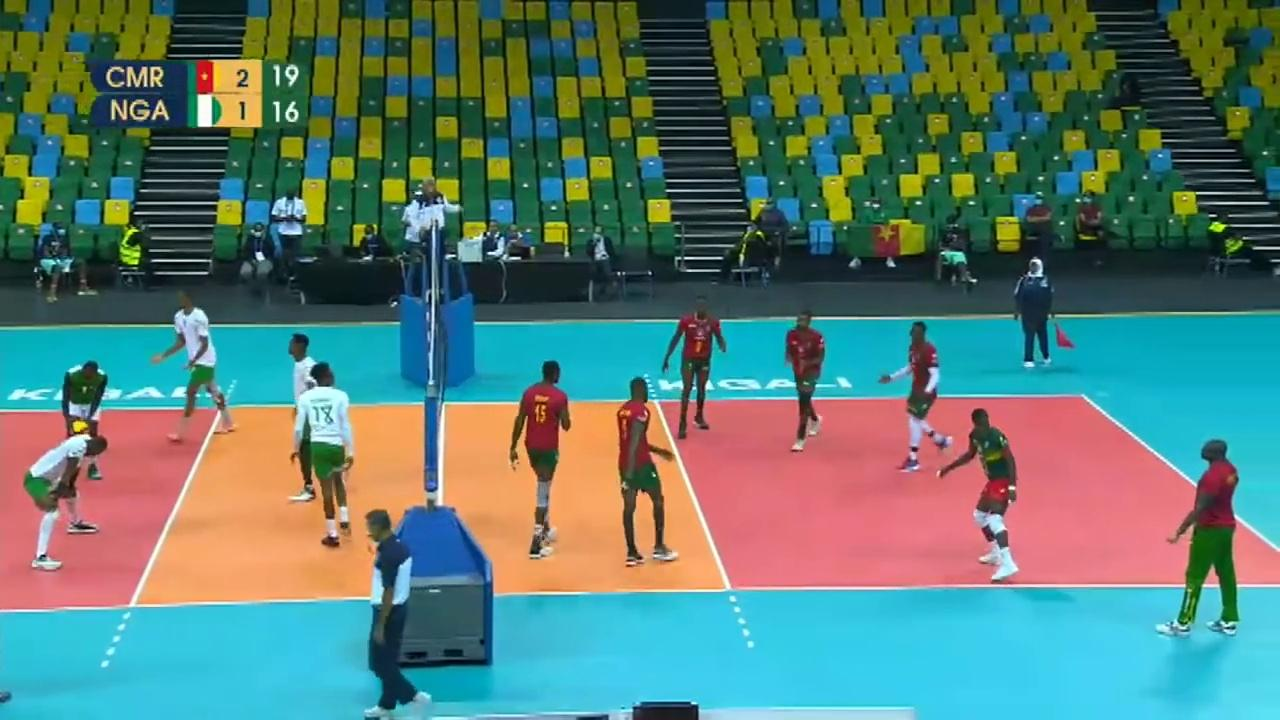player: (614, 372, 692, 567), (18, 432, 113, 576), (153, 291, 239, 442), (508, 363, 572, 553), (954, 409, 1020, 575), (298, 362, 354, 550), (880, 323, 947, 470), (665, 297, 729, 435), (282, 331, 331, 504), (56, 359, 111, 481), (783, 310, 828, 447)
refree: (362, 512, 427, 713), (408, 171, 461, 294), (1013, 258, 1066, 368)
